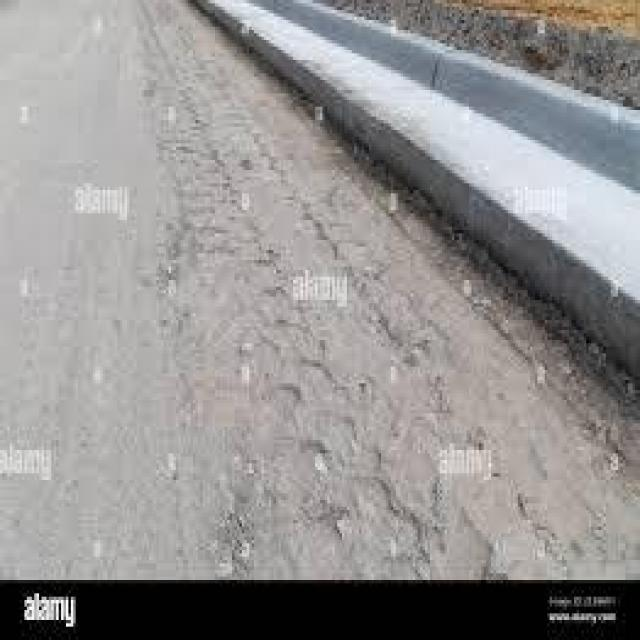curb: (327, 24, 516, 255), (505, 114, 640, 358), (206, 1, 364, 93)
